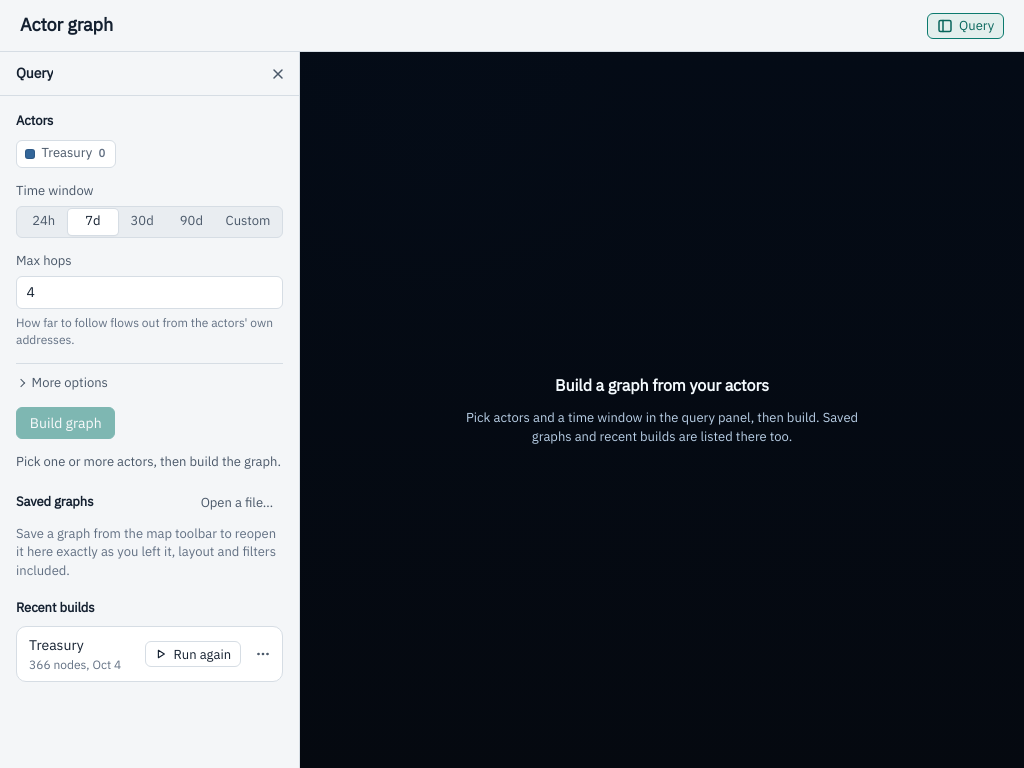
ActorGraphPage › runs a recent build again with that run's actors and settings
Expected: the text "366 nodes" is shown, [29,658,86,672]
Click the button "Run again".
click(193, 654)  # box [145,641,241,667]
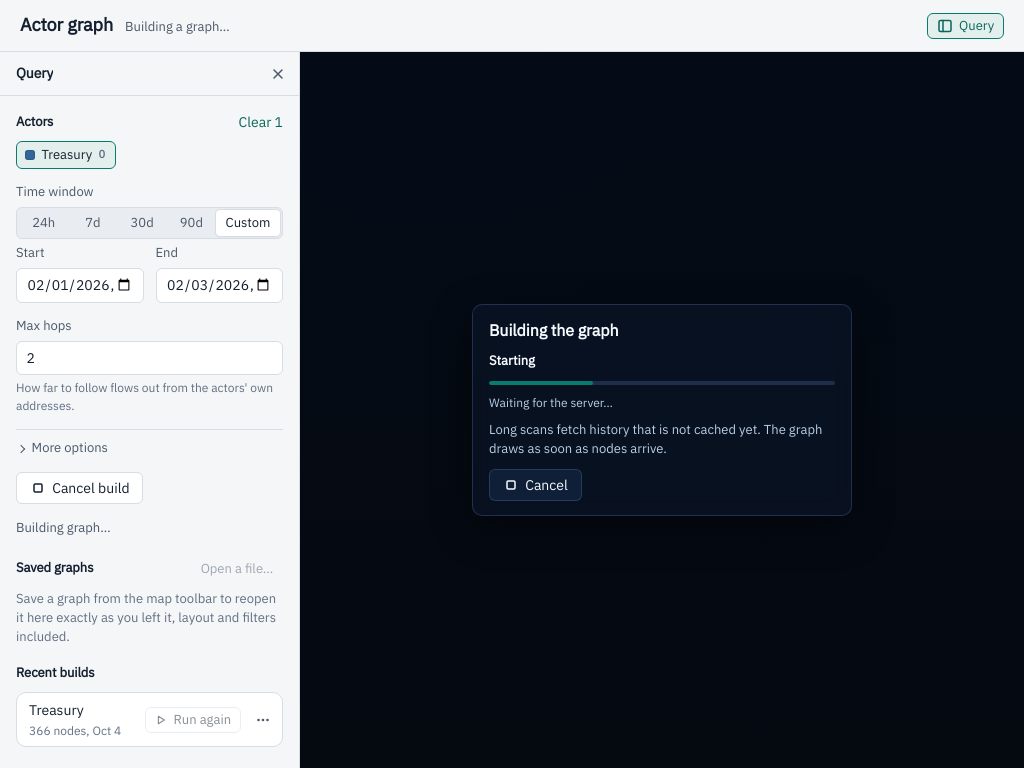
Expected: the checkbox labelled "Treasury 0" is checked, [25,148,40,163]
Expected: the number field labelled "Max hops" holds "2", [16,341,283,375]
Expected: the heading "Building the graph" is shown, [489,320,618,340]
